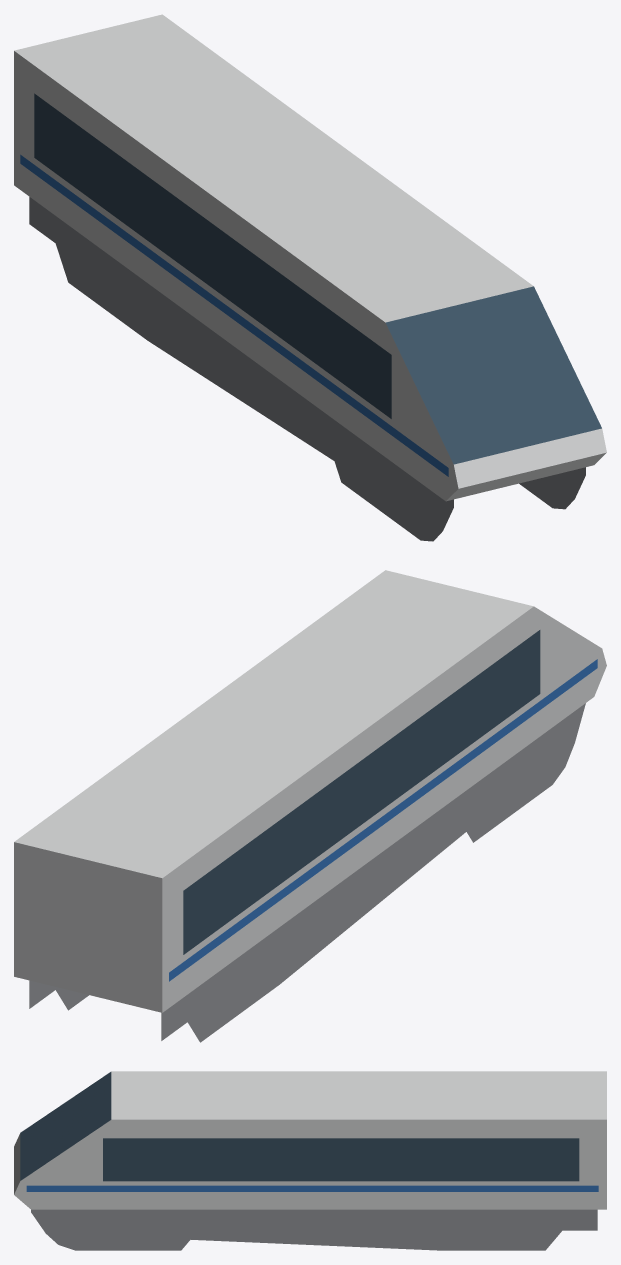
File: 308_far.fbx
3 views of the same model, one above another, from view 1: azimuth 30°, elevation 25°; view 2: azimuth 150°, elevation 25°; view 3: azimuth 270°, elevation 25° (orthographic). The views are drawn at different scales.
Visible parts, largest first — view 1: 308_far; view 2: 308_far; view 3: 308_far.
Part boxes in pixels (box(x1,y1,x2,y2)): 308_far: box(14, 14, 606, 541); 308_far: box(14, 570, 606, 1042); 308_far: box(14, 1071, 606, 1250).
Size of the model in its own units: 2.71 by 3.48 by 14.
